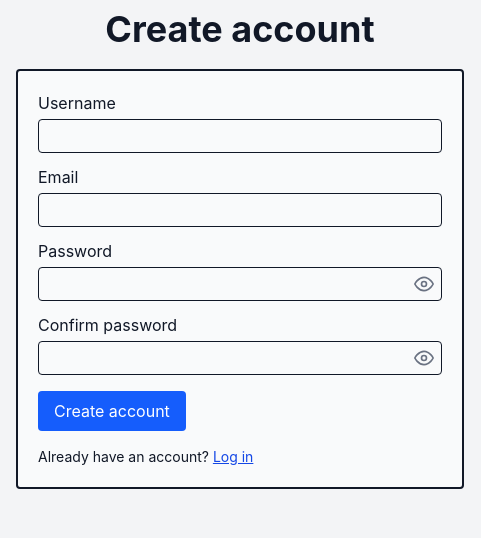
Test: Register › stops when the passwords do not match
Type "testuser" into the field labelled "Username". click: (240, 136)
box: [38,119,442,153]
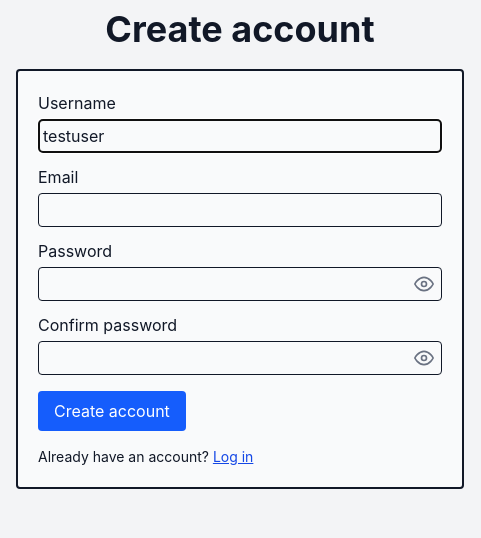
Type "test@example.com" into the field labelled "Email". click: (240, 210)
box: [38,193,442,227]
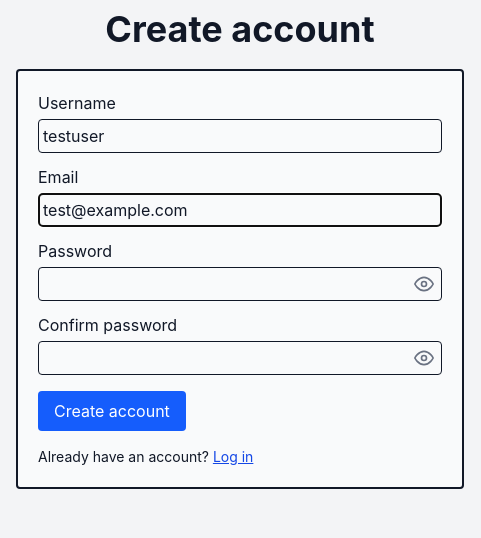
Type "password123" into the password field labelled "Password". click: (240, 284)
box: [38,267,442,301]
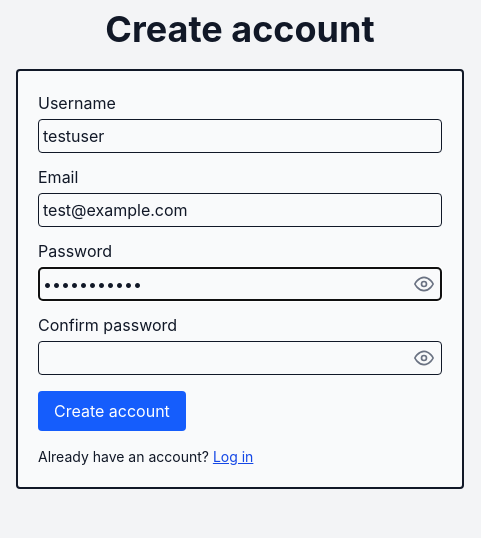
Type "different123" into the password field labelled "Confirm password". click: (240, 358)
box: [38,341,442,375]
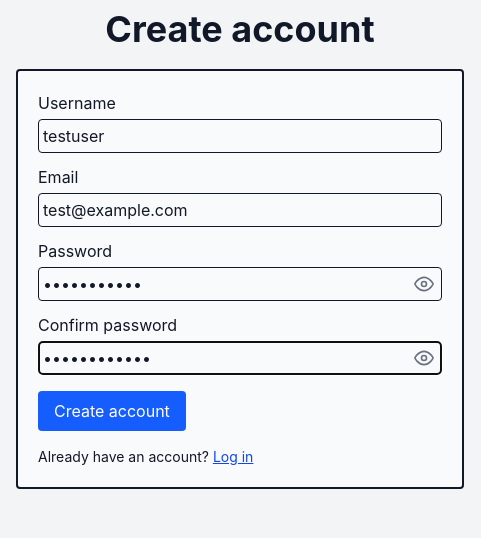
Click the button "Create account". click: (112, 411)
box: [38,391,186,431]
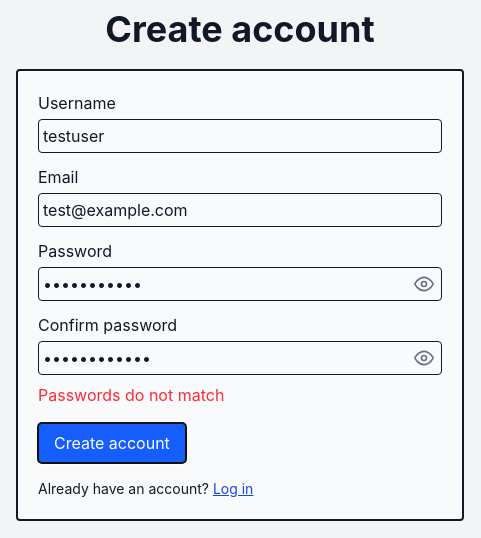
Now the message reads "Passwords do not match", box [38,385,224,405]
